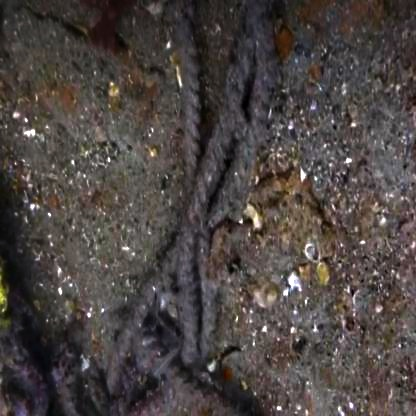net: (173, 48, 252, 366)
